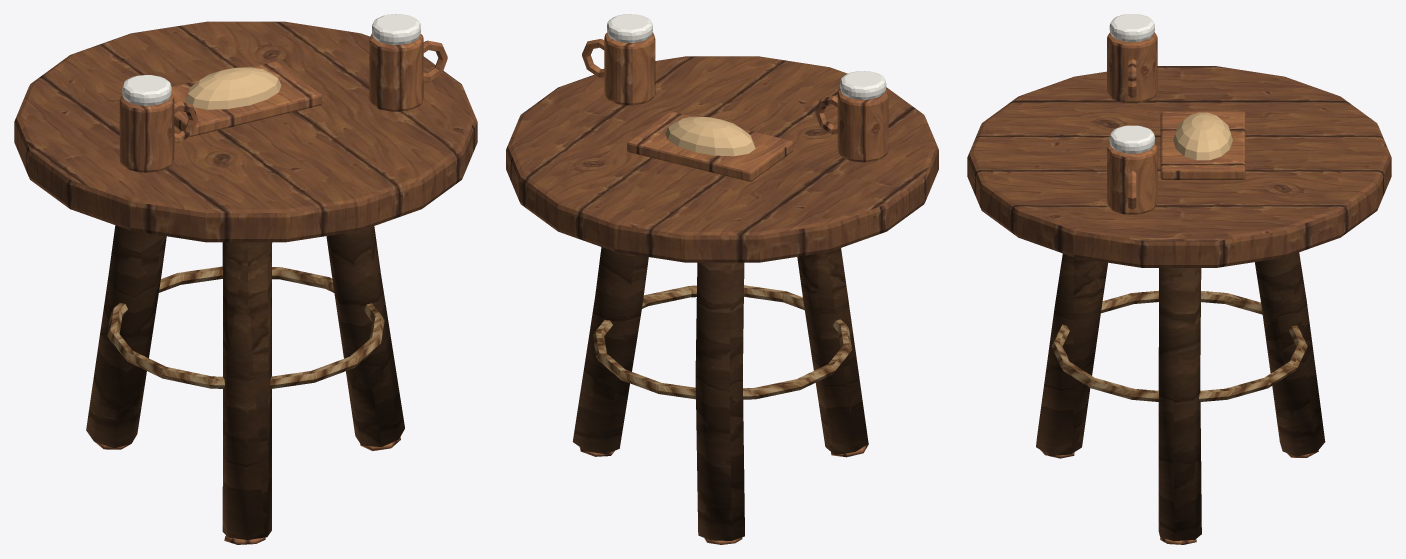
The model's file is tavern_table.glb.
3 renders of one model, left to right at view 1: azimuth 30°, elevation 25°; view 2: azimuth 150°, elevation 25°; view 3: azimuth 270°, elevation 25°, orthographic. The views are drawn at different scales.
Visible parts, largest first — view 1: model; view 2: model; view 3: model.
Boxes of the visible parts, x1,y1,x2,y2 form: model: [14, 14, 477, 544]; model: [506, 14, 938, 544]; model: [967, 14, 1391, 544].
Bounding box in the file's own units: 0.8863 × 0.9479 × 0.9.
Materials: 7 (5 with a texture image).
